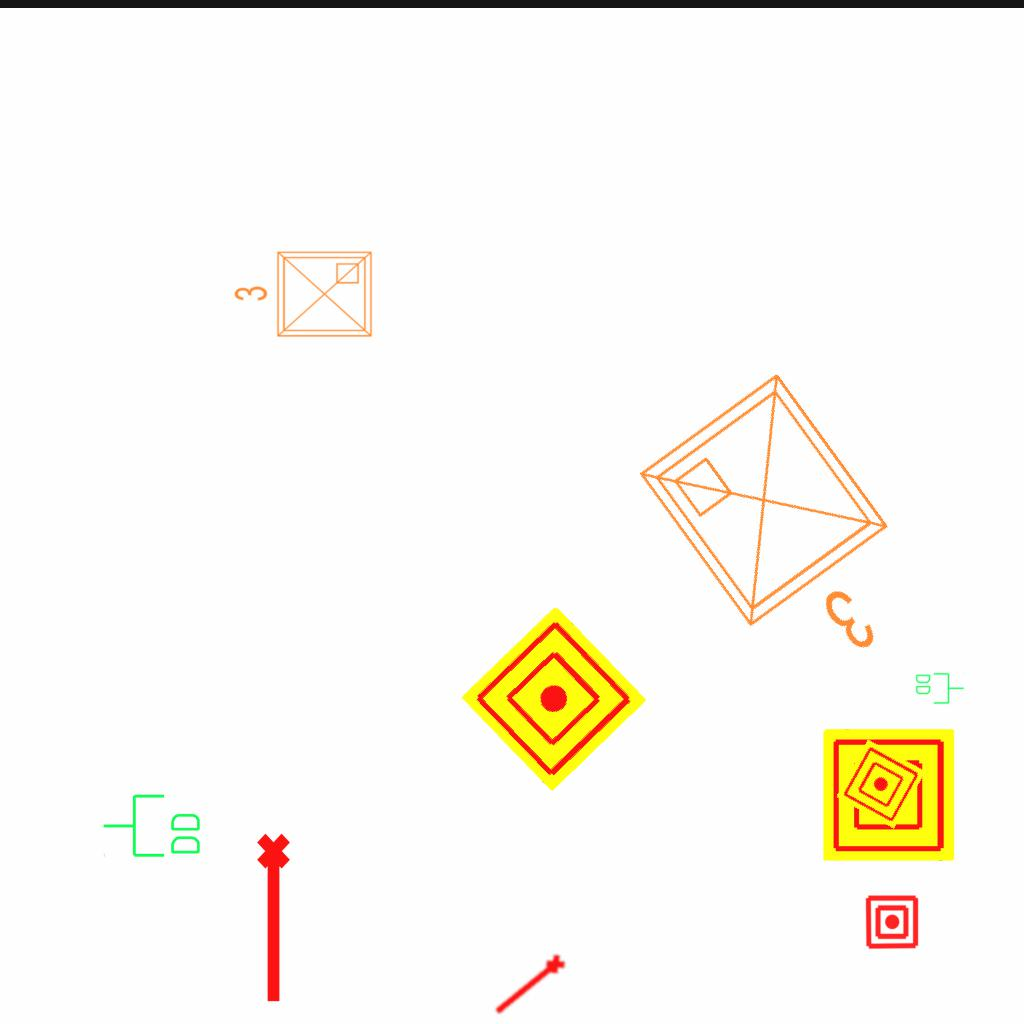ASR_Ansaugoeffnung: (253, 831, 299, 1007), (488, 949, 572, 1024)
Datenanschluss_zweifach: (101, 792, 204, 861), (914, 671, 965, 705)
Einbaudownlights_LED_Konferenzraeume: (618, 348, 964, 714), (229, 244, 379, 348)
NAM-Nichtautomatischer_Melder: (460, 605, 648, 793), (823, 729, 955, 861), (836, 739, 926, 829), (864, 894, 920, 950)
